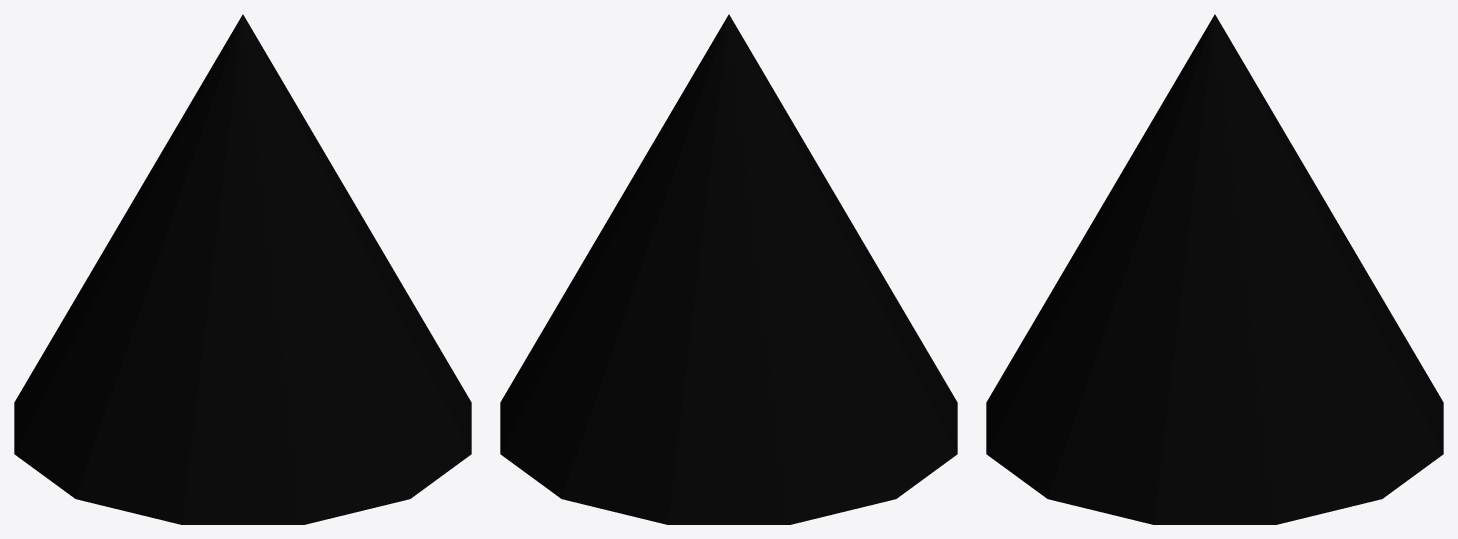
Rendered from m_boid_normal.gltf.
3 views of the same model, side by side, from view 1: azimuth 30°, elevation 25°; view 2: azimuth 150°, elevation 25°; view 3: azimuth 270°, elevation 25° (orthographic).
Visible parts, largest first — view 1: cone; view 2: cone; view 3: cone.
Boxes of the visible parts, x1,y1,x2,y2 form: cone: (14, 14, 471, 524); cone: (500, 14, 957, 524); cone: (986, 14, 1443, 524).
Size of the model in its own units: 1 by 1 by 1.
Materials: 1 (1 with a texture image).
